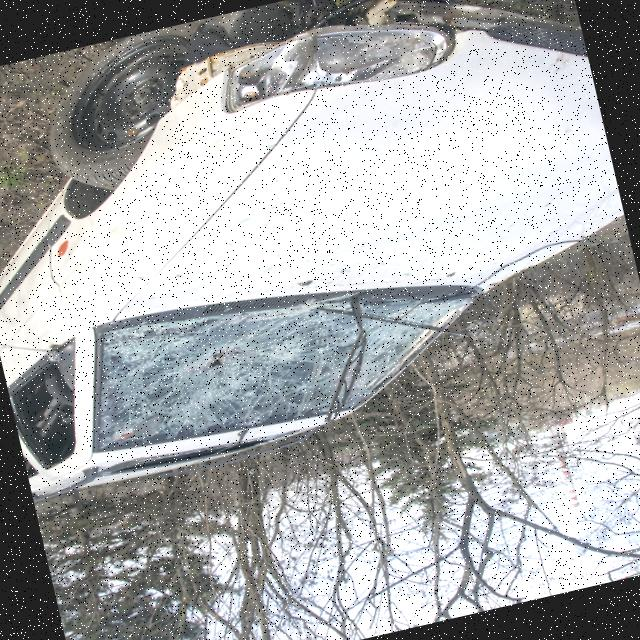Windshield: (80, 264, 438, 451)
